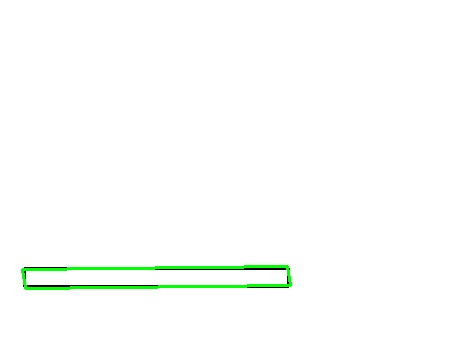line_segment: (22, 266, 291, 289)
